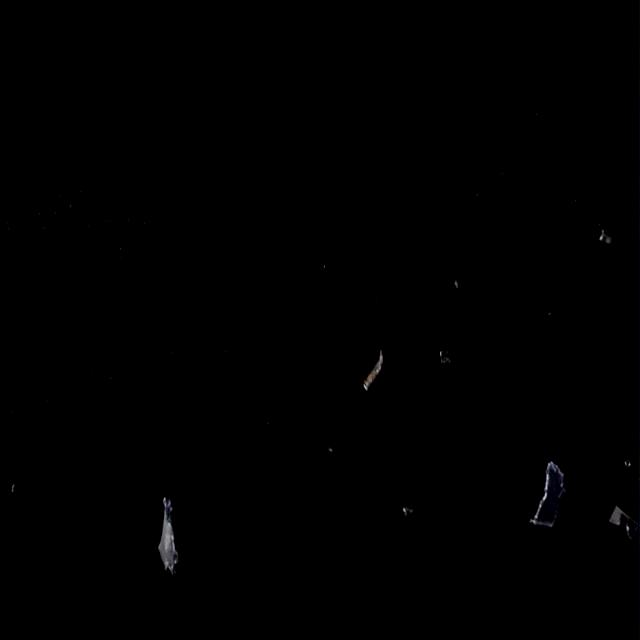large_debris: (523, 447, 574, 547), (150, 476, 189, 568), (602, 487, 640, 565), (361, 328, 395, 412), (599, 226, 621, 264)
